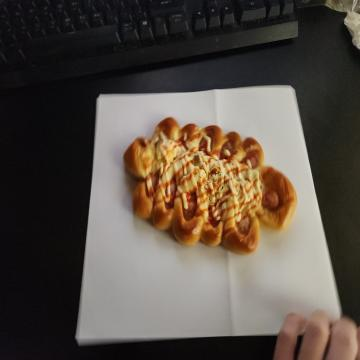pizza_bread: (122, 116, 298, 258)
